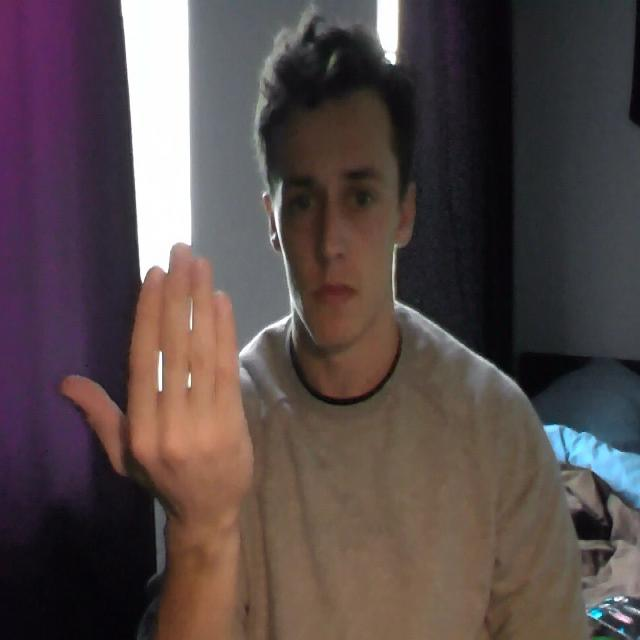forward: (50, 179, 269, 552)
